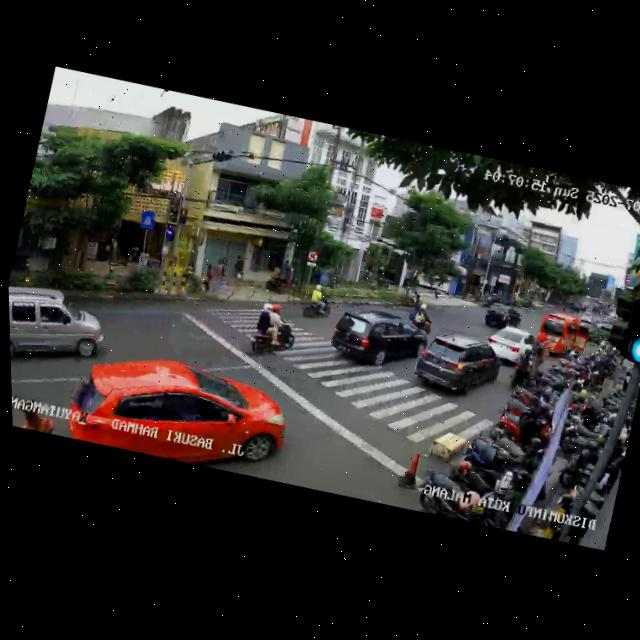car: (61, 333, 298, 488), (8, 281, 109, 383), (323, 300, 429, 379), (408, 325, 506, 407), (534, 306, 594, 364), (481, 317, 540, 370), (481, 300, 525, 337)
motorcycle: (243, 296, 303, 362), (298, 280, 334, 324), (403, 295, 441, 336), (507, 343, 536, 390)
